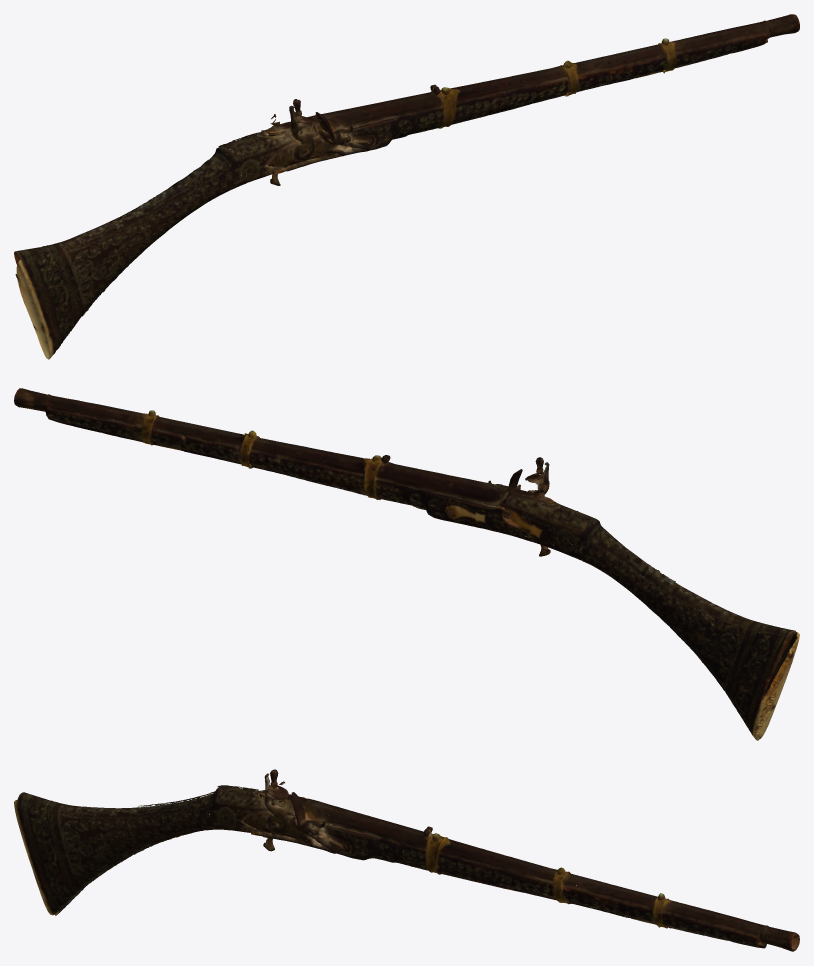
Rendered from flintlock_musket_12858.lod2.glb.
3 views of the same model, one above another, from view 1: azimuth 30°, elevation 25°; view 2: azimuth 150°, elevation 25°; view 3: azimuth 330°, elevation 25° (orthographic).
Visible parts, largest first — view 1: Object_2, Object_3; view 2: Object_2, Object_3; view 3: Object_2, Object_3.
Part boxes in pixels (x1,y1,x2,y2): Object_2: (14, 14, 799, 359); Object_3: (48, 39, 711, 359); Object_2: (14, 388, 799, 740); Object_3: (107, 418, 755, 737); Object_2: (14, 784, 799, 951); Object_3: (54, 769, 699, 930).
Size of the model in its own units: 997 by 262 by 64.18.
Materials: 1 (1 with a texture image).
